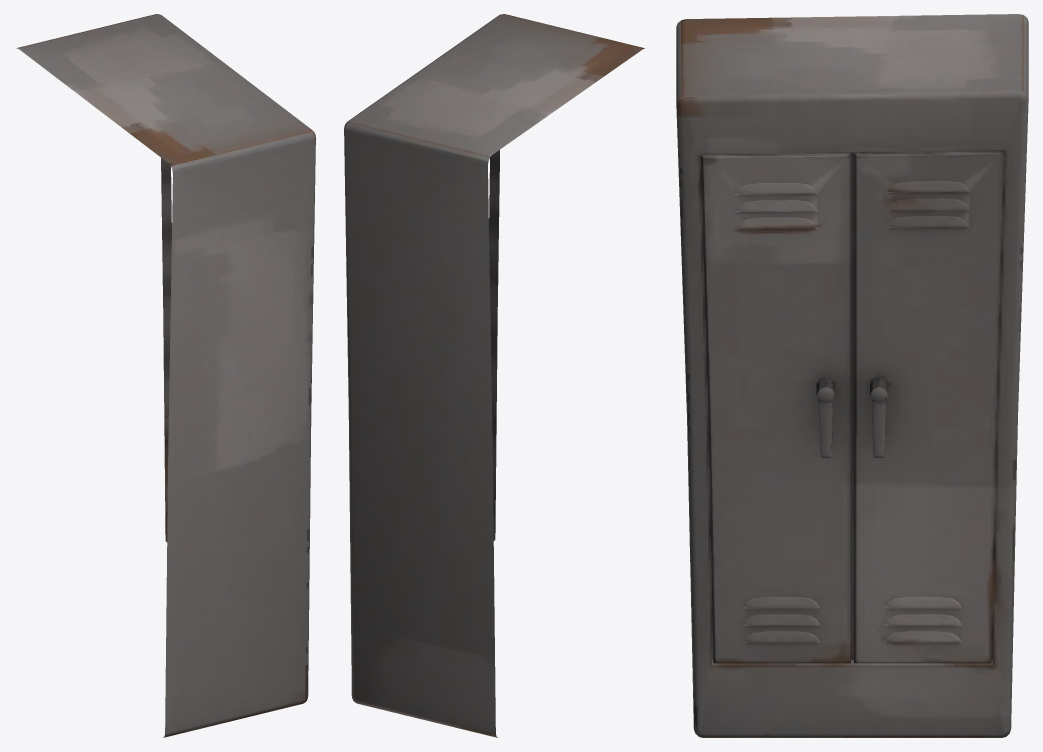
3 views of the same model, side by side, from view 1: azimuth 30°, elevation 25°; view 2: azimuth 150°, elevation 25°; view 3: azimuth 270°, elevation 25° (orthographic). The views are drawn at different scales.
Visible parts, largest first — view 1: body0_model0_lod0_mesh0; view 2: body0_model0_lod0_mesh0; view 3: body0_model0_lod0_mesh0.
Boxes of the visible parts, box(x1,y1,x2,y2) form: body0_model0_lod0_mesh0: box(16, 14, 315, 737); body0_model0_lod0_mesh0: box(344, 14, 644, 737); body0_model0_lod0_mesh0: box(676, 14, 1028, 737).
Size of the model in its own units: 33.2 by 113 by 55.69.
1 material, 1 textured.
